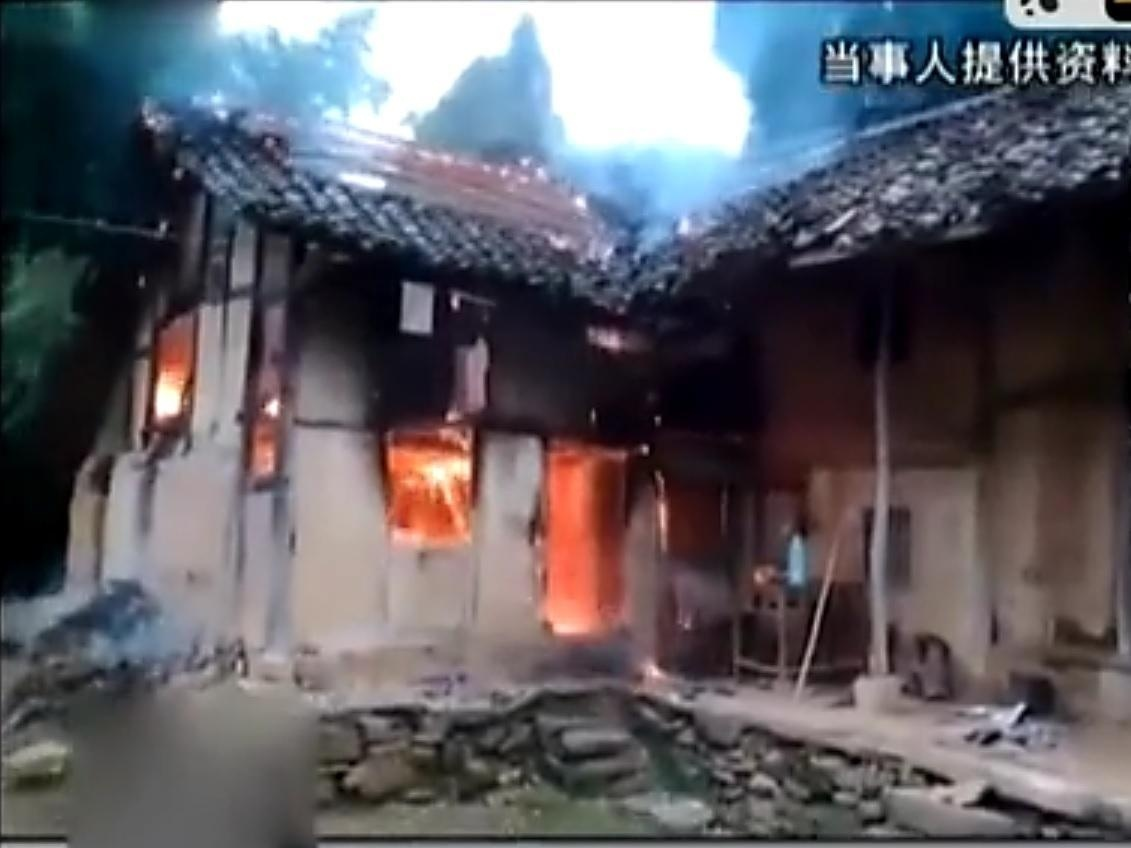fire: (384, 416, 481, 543), (146, 332, 199, 425)
